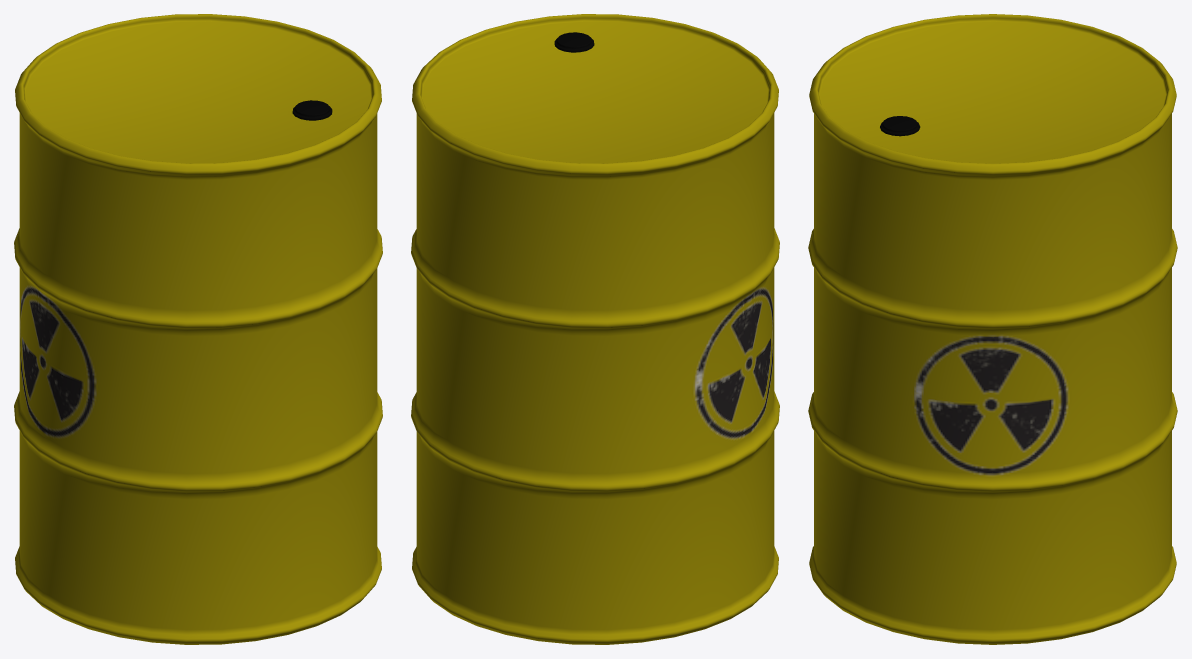
File: barrel_v1.0.glb
The picture shows the model from 3 angles, left to right: view 1: azimuth 30°, elevation 25°; view 2: azimuth 150°, elevation 25°; view 3: azimuth 270°, elevation 25°; orthographic projection.
Size of the model in its own units: 2.06 by 2.96 by 2.06.
1 material, 1 textured.
